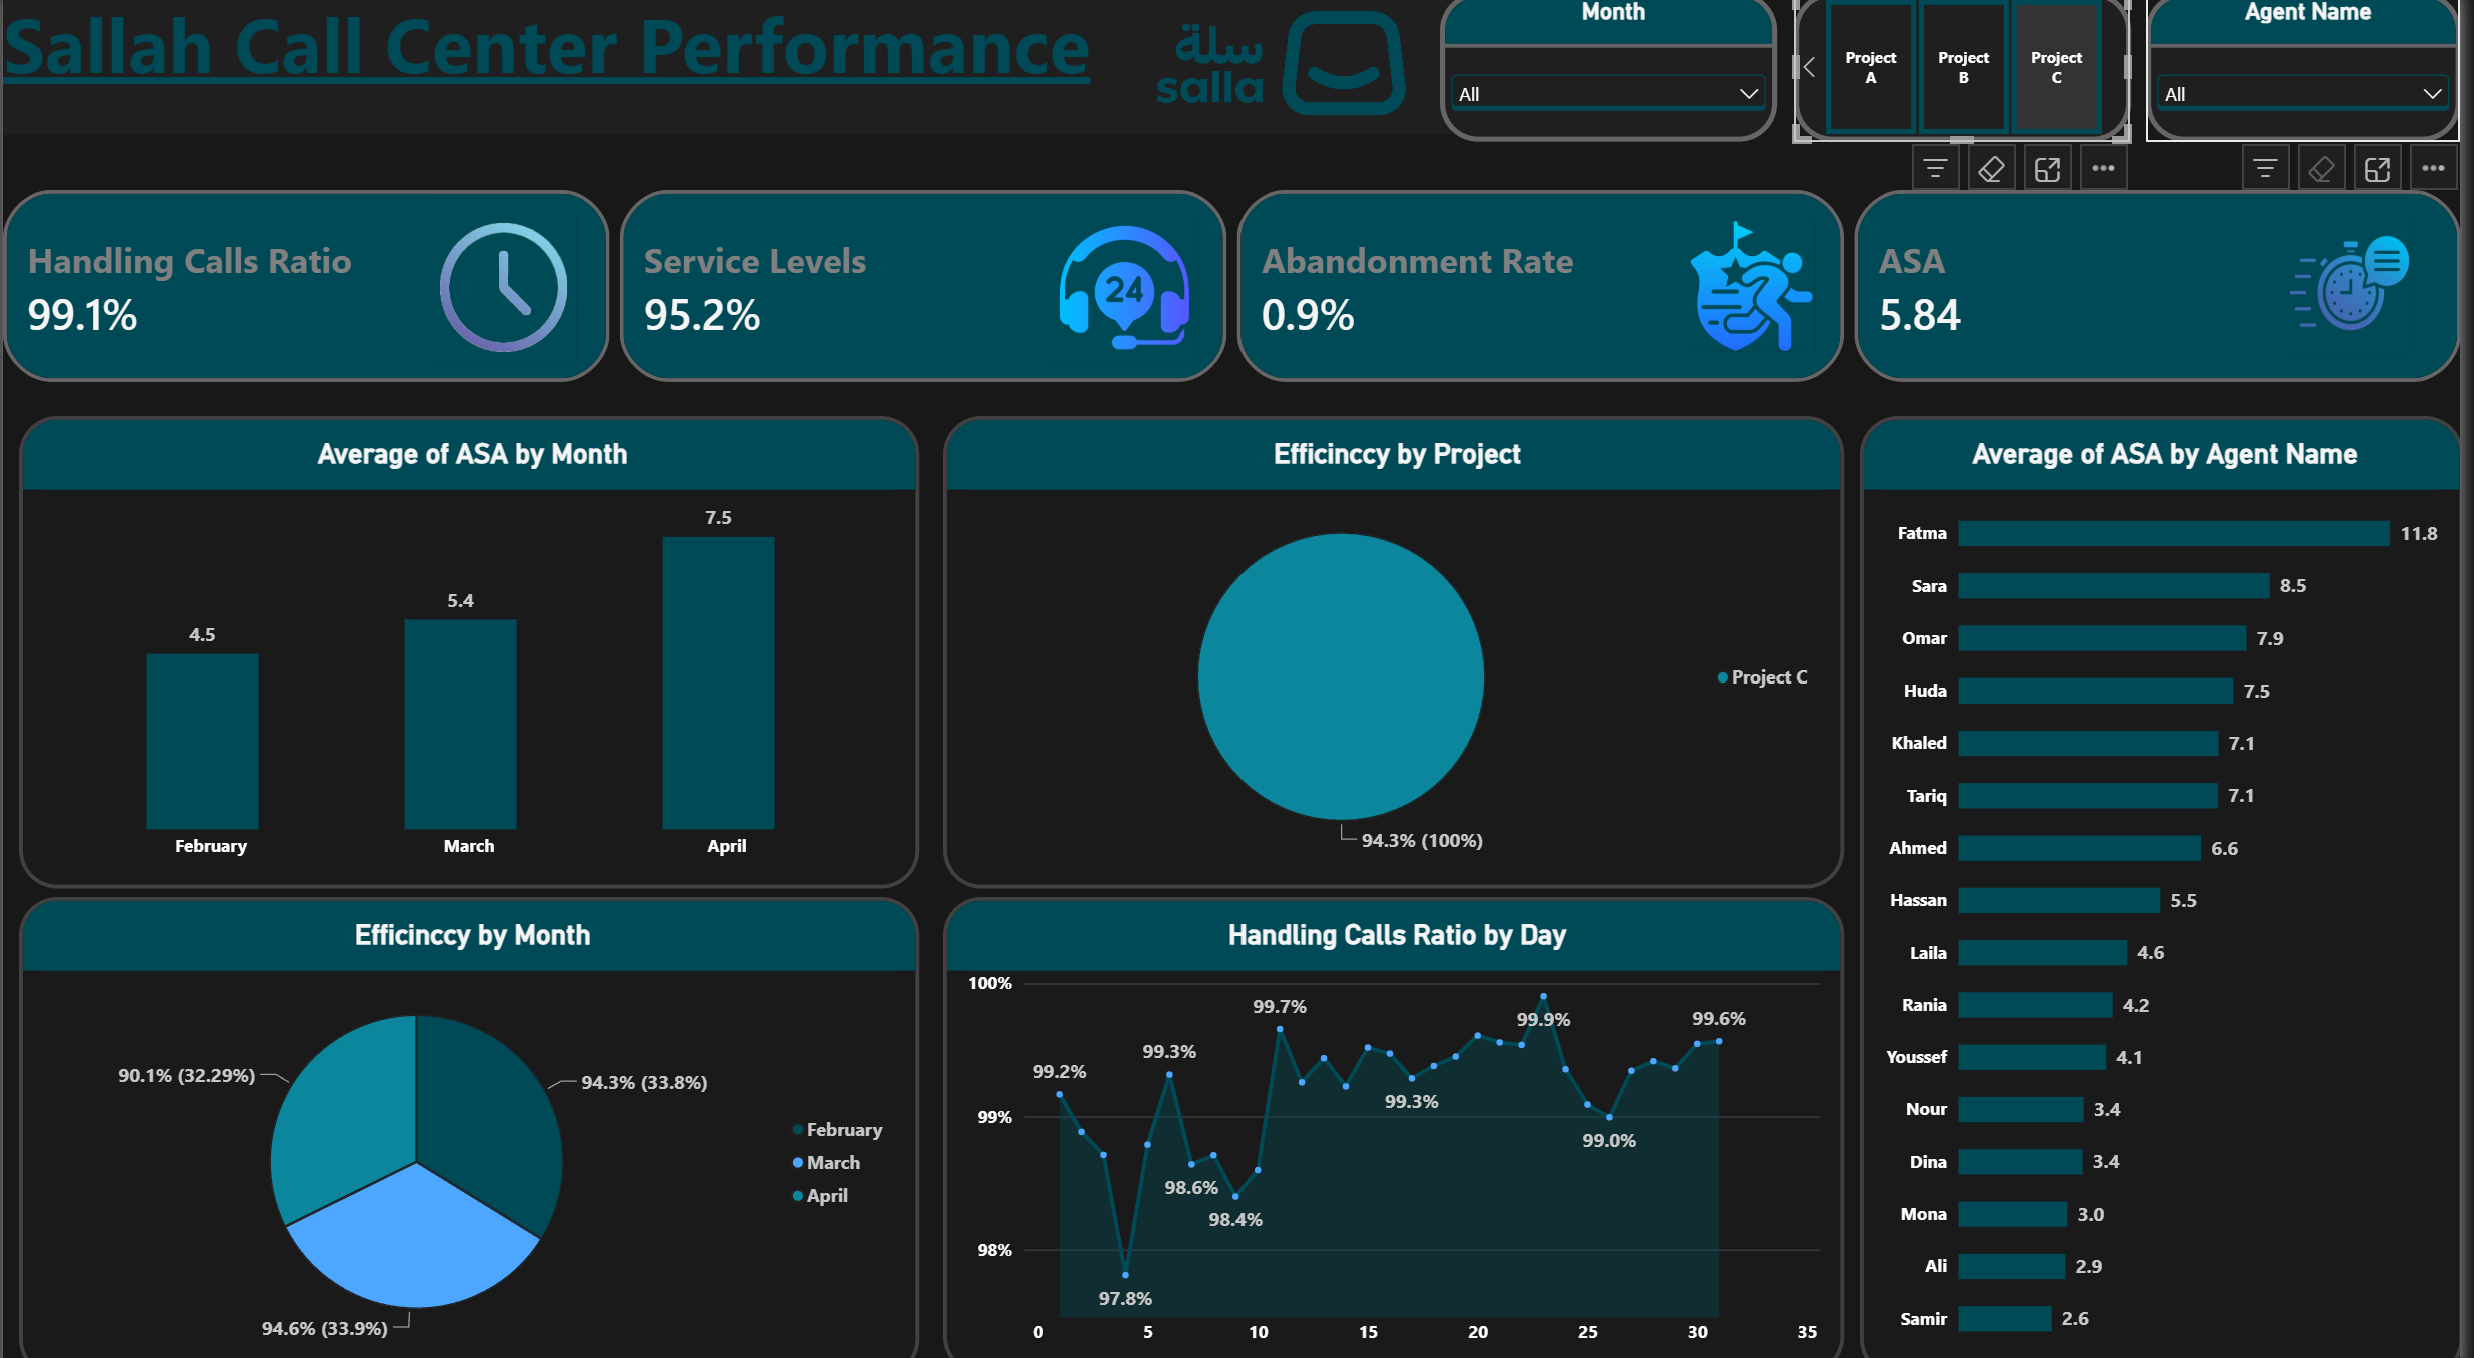

The page's visual inventory and layout, read from the dashboard file:
{"tool":"powerbi","page":{"name":"Over view","canvas":[1920,1080],"ordinal":0},"visuals":[{"type":"image","box":[862.3,0,272.3,111.7],"z":0},{"type":"textbox","box":[0,0,862.3,111.7],"z":1000},{"type":"cardVisual","fields":{"Data":["salla.Handling Calls Ratio","salla.Servis Levels","salla.Abd Rate","Avg(salla.ASA)"]},"box":[0,155.3,1920,150.1],"z":2000},{"type":"columnChart","fields":{"Category":["salla.Date.Variation.Date Hierarchy.Month","salla.Day Name"],"Y":["Avg(salla.ASA)"]},"box":[12.2,331.6,703.4,368.3],"z":3000},{"type":"pieChart","fields":{"Category":["salla.Project"],"Y":["salla.Efficinccy"]},"box":[734.8,331.6,703.4,368.3],"z":4000},{"type":"pieChart","fields":{"Category":["salla.Date.Variation.Date Hierarchy.Month"],"Y":["salla.Efficinccy"]},"box":[12.2,706.9,703.4,375.3],"z":5000},{"type":"barChart","fields":{"Category":["salla.Agent Name"],"Y":["Avg(salla.ASA)"]},"box":[1450.5,331.6,471.3,750.5],"z":6000},{"type":"areaChart","fields":{"Category":["salla.Date.Variation.Date Hierarchy.Day"],"Y":["salla.Handling Calls Ratio"]},"box":[734.8,706.9,703.4,373.5],"z":7000},{"type":"slicer","title":"Month","fields":{"Values":["salla.Date.Variation.Date Hierarchy.Month"]},"box":[1122.3,0,263.6,116.9],"z":8000},{"type":"slicer","fields":{"Values":["salla.Project"]},"box":[1398.1,0,263.6,116.9],"z":9000},{"type":"slicer","title":"Agent Name","fields":{"Values":["salla.Agent Name"]},"box":[1673.9,0,246.1,116.9],"z":9001},{"type":"image","box":[335.1,172.8,113.5,115.2],"z":9002},{"type":"image","box":[818.6,172.8,115.2,115.2],"z":9003},{"type":"image","box":[1316.1,178,99.5,103],"z":9004},{"type":"image","box":[1785.6,172.8,96,108.2],"z":9005}]}

Visuals, with their boxes in screenshot pixels (x1, y1, x2, y2):
image: 1097 0 1447 131
textbox: 0 0 1097 131
cardVisual - salla.Handling Calls Ratio x salla.Servis Levels: 0 187 2458 380
columnChart - salla.Date.Variation.Date Hierarchy.Month x salla.Day Name: 3 414 908 888
pieChart - salla.Project x salla.Efficinccy: 933 414 1838 888
pieChart - salla.Date.Variation.Date Hierarchy.Month x salla.Efficinccy: 3 897 908 1357
barChart - salla.Agent Name x Avg(salla.ASA): 1854 414 2460 1357
areaChart - salla.Date.Variation.Date Hierarchy.Day x salla.Handling Calls Ratio: 933 897 1838 1357
"Month" slicer: 1431 0 1771 138
slicer - salla.Project: 1786 0 2126 138
"Agent Name" slicer: 2141 0 2458 138
image: 418 209 564 358
image: 1041 209 1189 358
image: 1681 216 1809 349
image: 2285 209 2409 349
